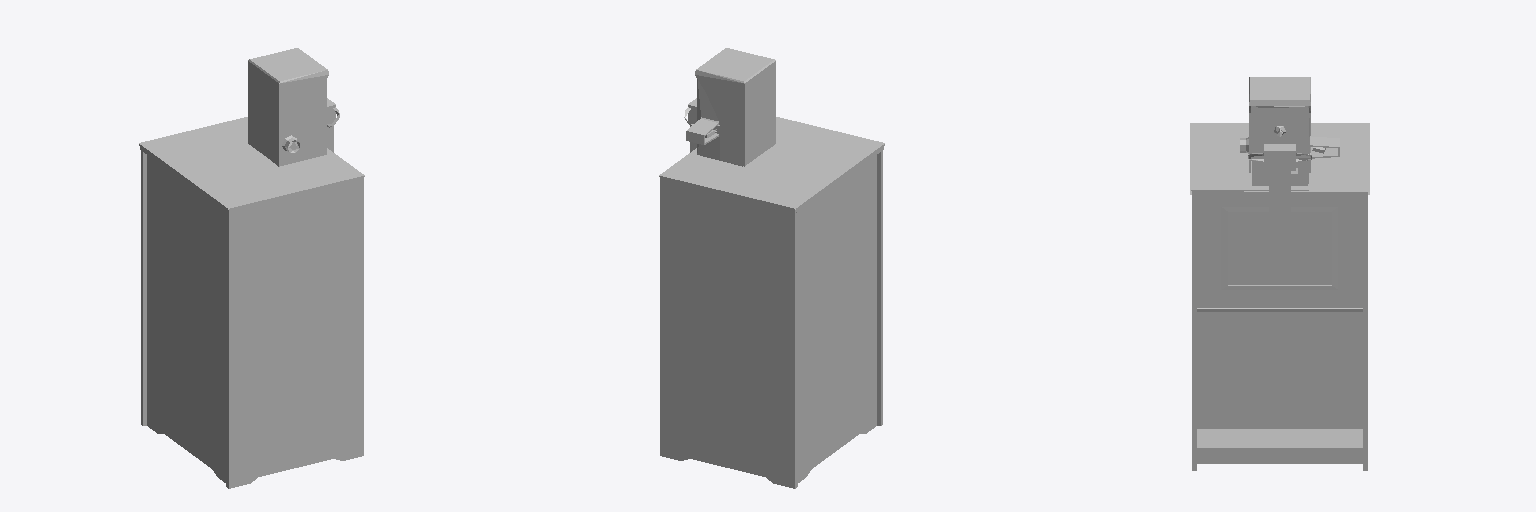
Rendered from NewspaperBox_LOD2.obj.
3 renders of one model, left to right at view 1: azimuth 30°, elevation 25°; view 2: azimuth 150°, elevation 25°; view 3: azimuth 270°, elevation 25°, orthographic.
Parts seen in each view (by area): view 1: NewspaperBox_LOD2 NewspaperBox; view 2: NewspaperBox_LOD2 NewspaperBox; view 3: NewspaperBox_LOD2 NewspaperBox.
Part boxes in pixels (x1,y1,x2,y2): NewspaperBox_LOD2 NewspaperBox: (139, 48, 364, 488); NewspaperBox_LOD2 NewspaperBox: (659, 48, 884, 488); NewspaperBox_LOD2 NewspaperBox: (1190, 77, 1369, 470).
Bounding box in the file's own units: 58.64 × 142 × 62.77.